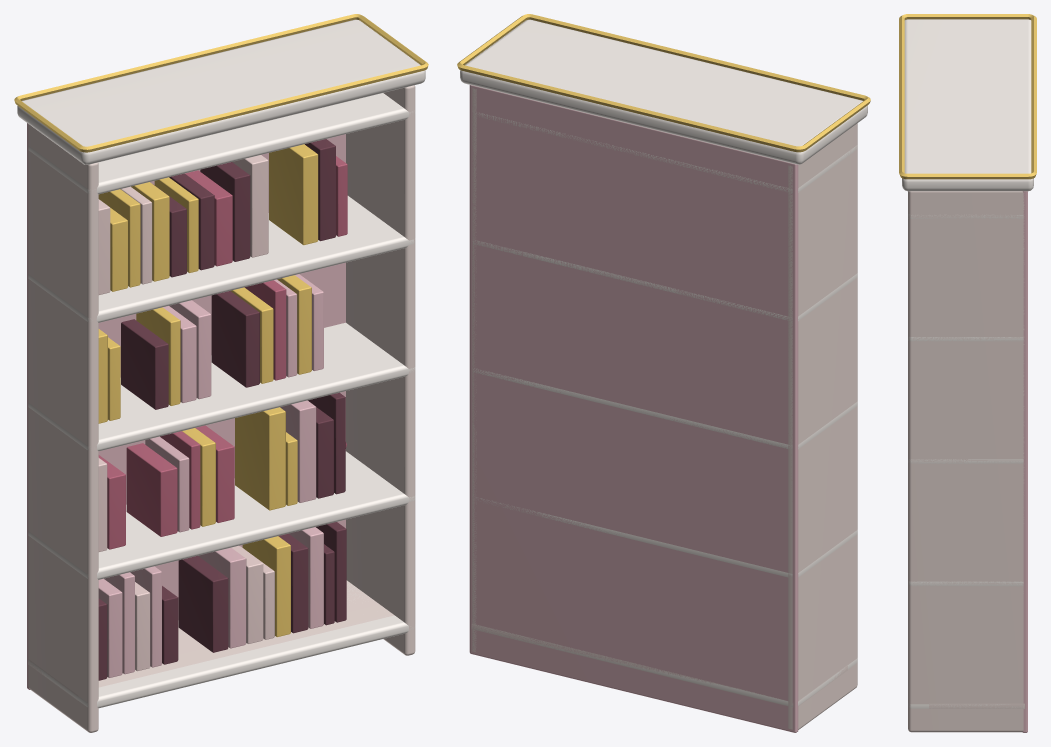
File: bookshelf_pink.glb
3 renders of one model, left to right at view 1: azimuth 30°, elevation 25°; view 2: azimuth 150°, elevation 25°; view 3: azimuth 270°, elevation 25°, orthographic. The views are drawn at different scales.
Visible parts, largest first — view 1: bookshelf_pink; view 2: bookshelf_pink; view 3: bookshelf_pink.
Part boxes in pixels (x1,y1,x2,y2): bookshelf_pink: (14, 14, 428, 732); bookshelf_pink: (457, 14, 870, 732); bookshelf_pink: (899, 14, 1036, 732).
Size of the model in its own units: 1.28 by 2.07 by 0.459.
